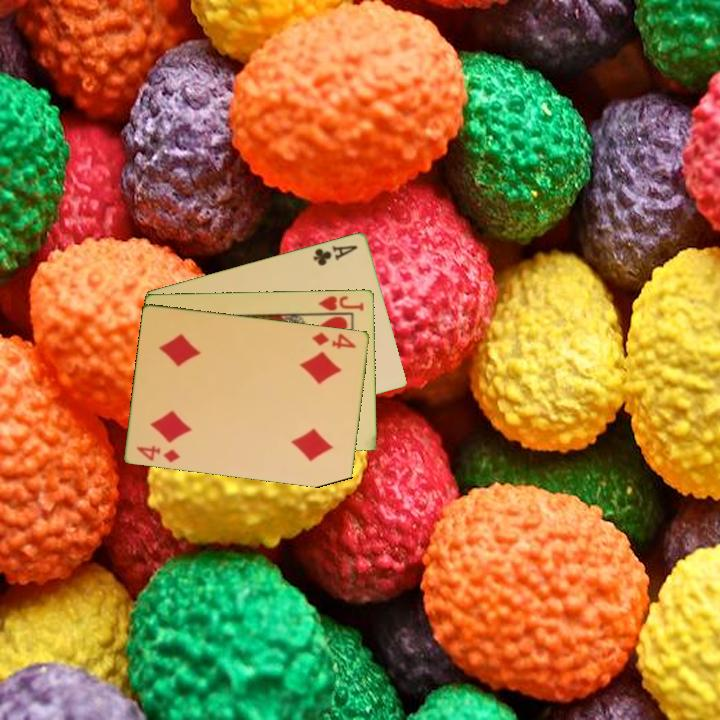4d: (309, 329, 360, 352), (133, 442, 183, 465)
Ac: (310, 241, 361, 268)
Jh: (312, 292, 367, 316)
